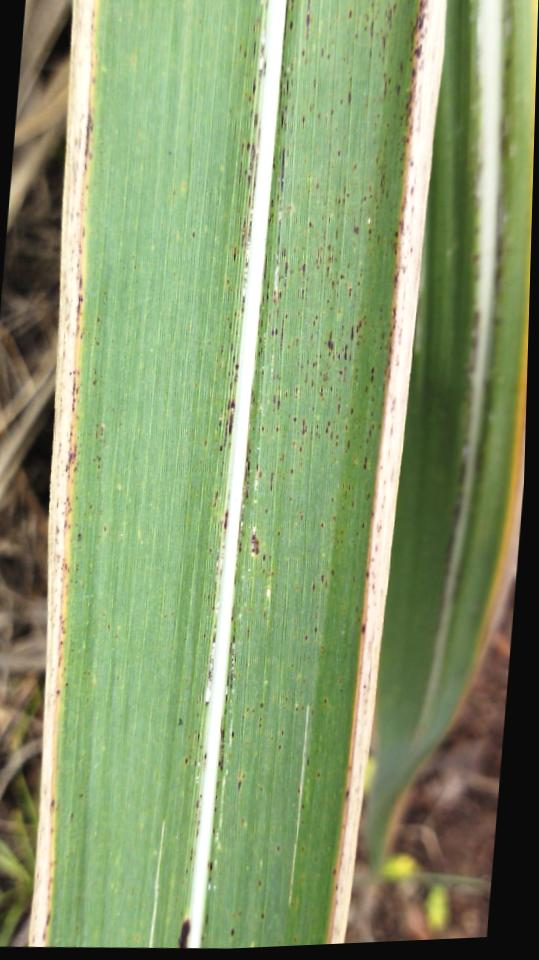Rust: (199, 0, 430, 948), (177, 0, 268, 948), (46, 0, 129, 705), (38, 793, 60, 943)
Yellow: (40, 0, 102, 947)
